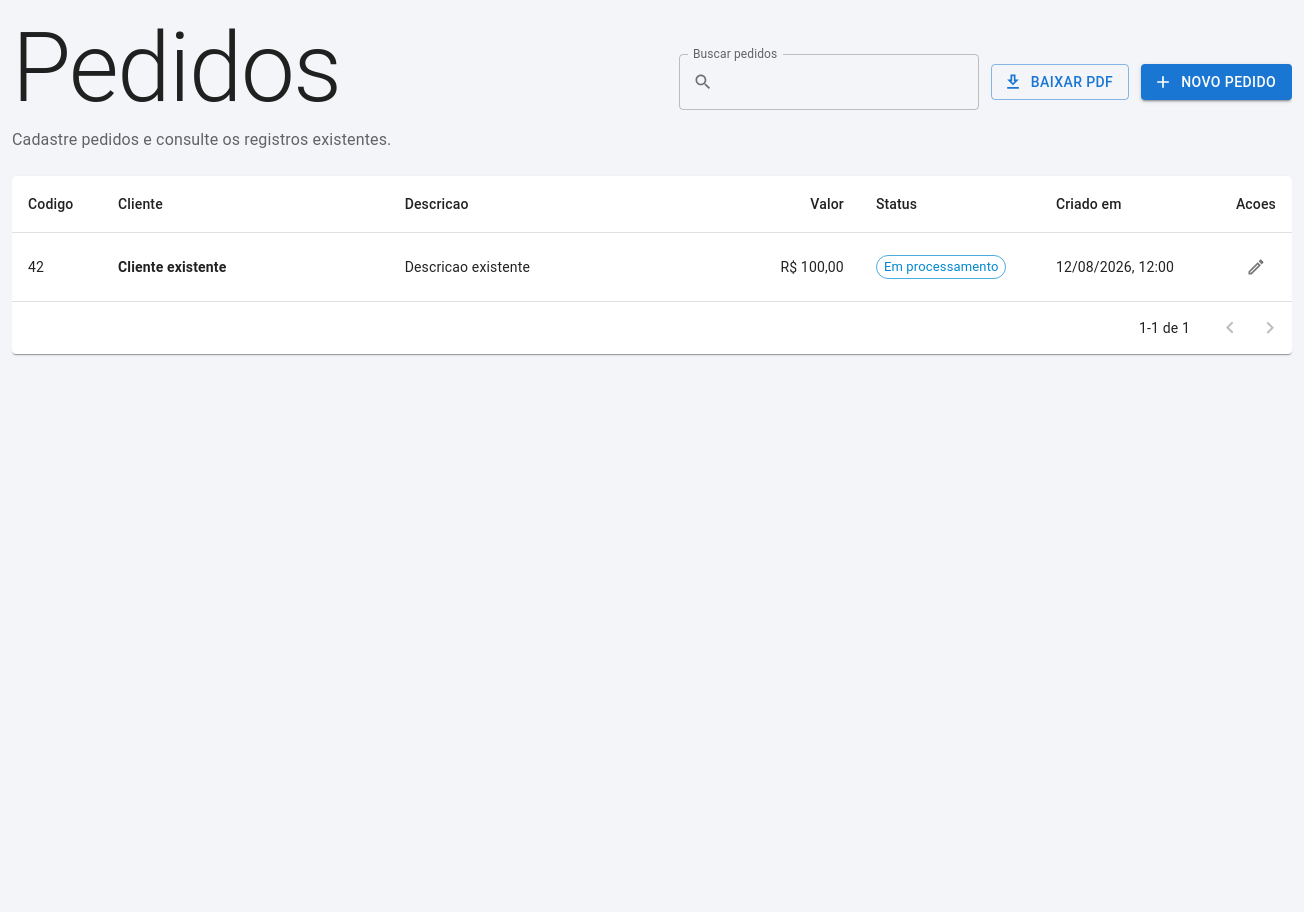
Scenario: OrdersPage › preenche e atualiza um pedido pela lista
expect the text "Cliente existente" is shown: met, box [102, 232, 389, 302]
Click the button named "Editar pedido 42".
click(1256, 267)  # box [1238, 249, 1274, 285]
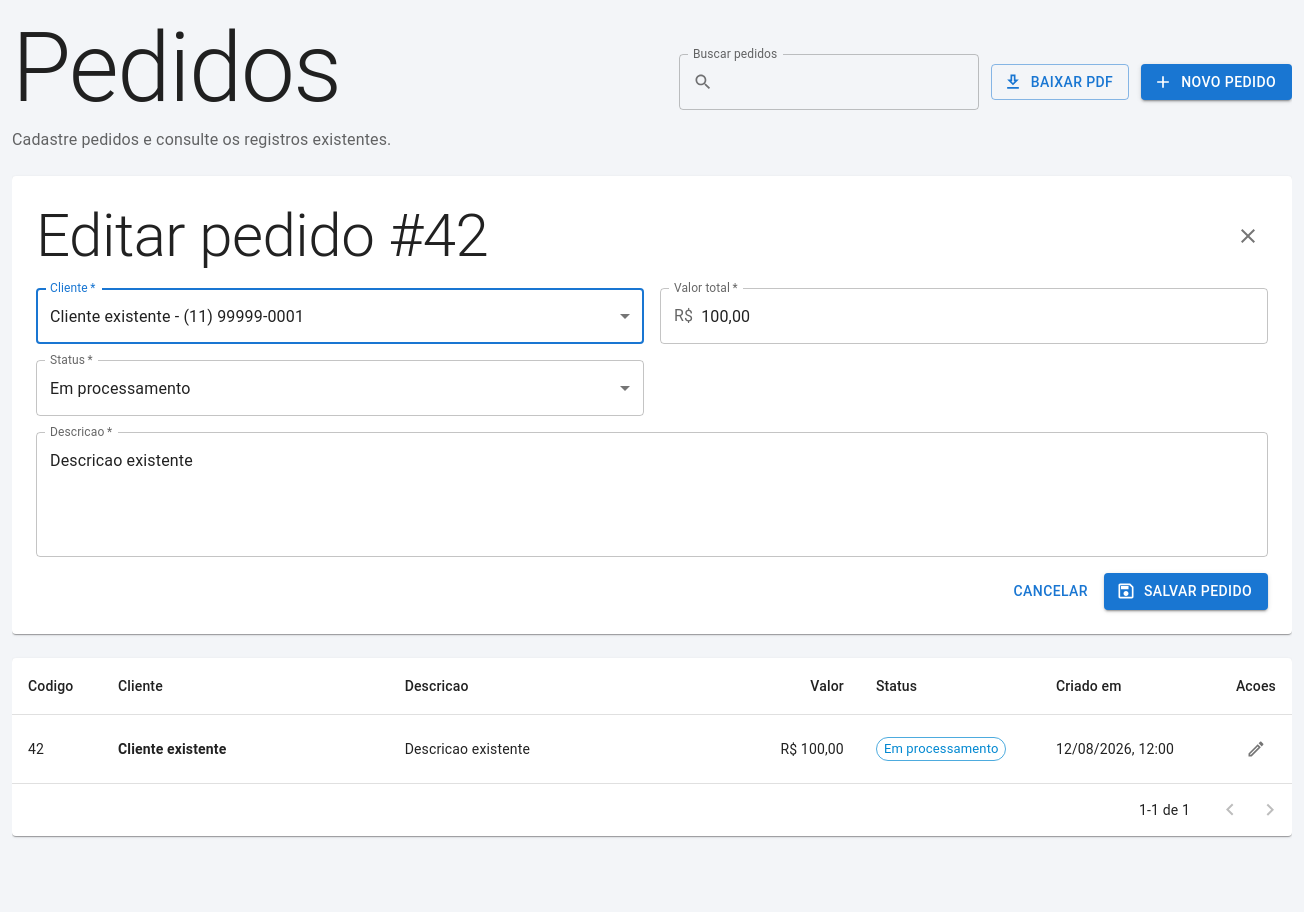
expect the text box showing "Descricao existente" is shown: met, box [50, 448, 1254, 540]
expect the field showing "100,00" is shown: met, box [701, 288, 1268, 344]
expect the heading "Editar pedido #42" is shown: met, box [36, 200, 488, 272]
Click the dropdown labelled "Cliente existente - (11) 99999-0001".
click(177, 316)  # box [50, 306, 304, 326]
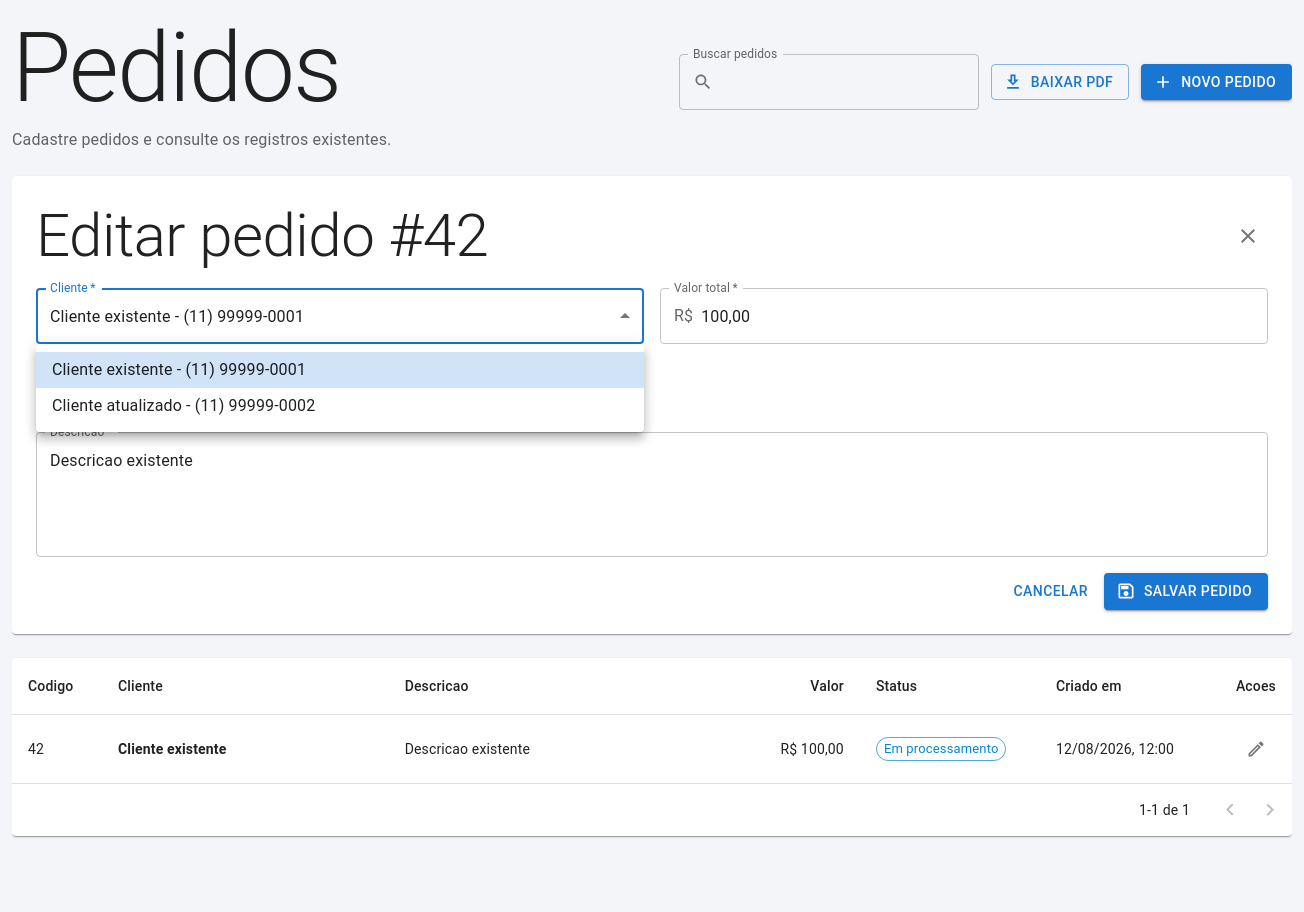
Click the option "Cliente atualizado - (11) 99999-0002".
click(184, 406)  # box [52, 396, 315, 415]
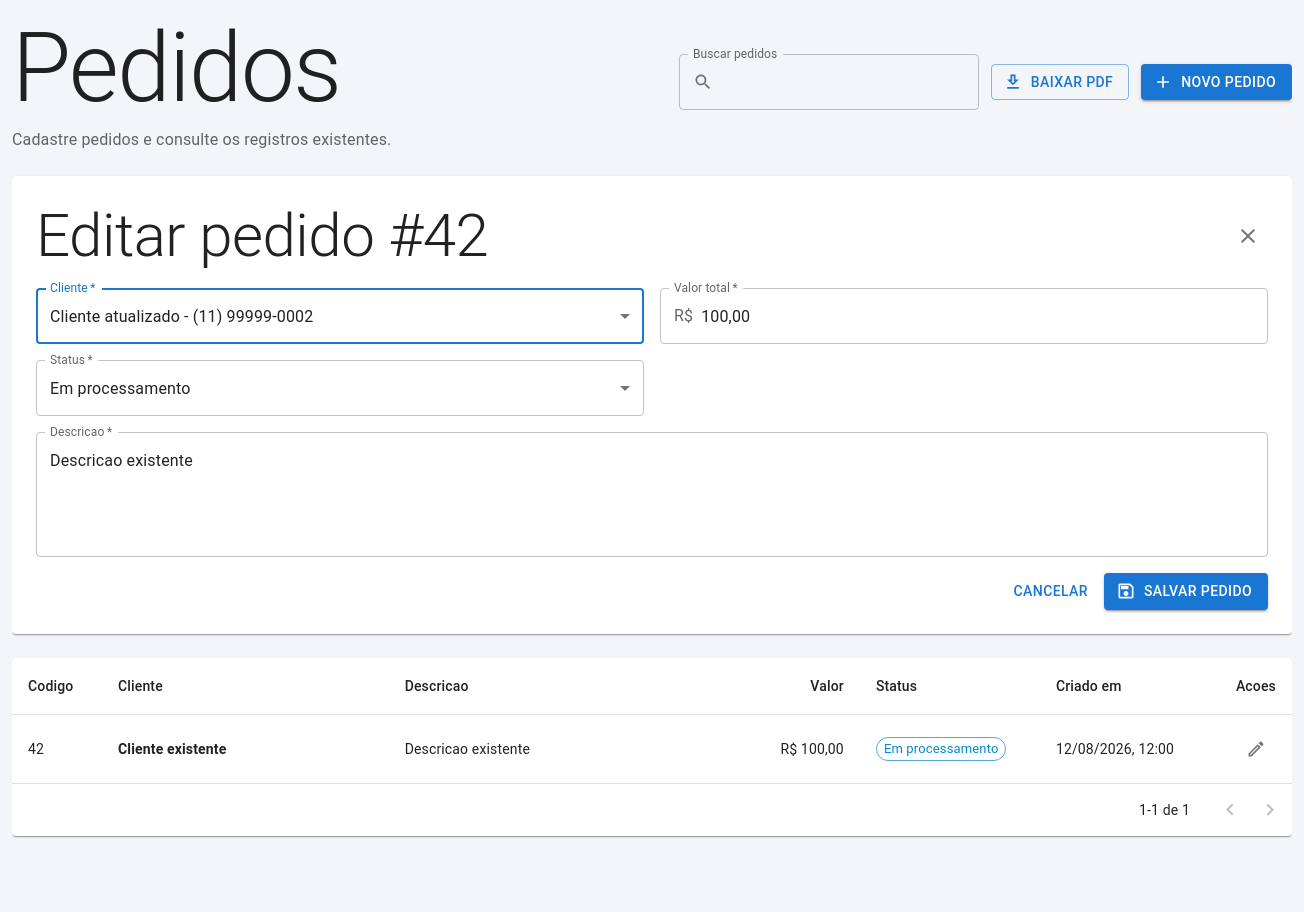
Replace the text in the field labelled "Valor total *" with "150,50" at {"x": 985, "y": 316}, box [701, 288, 1268, 344]
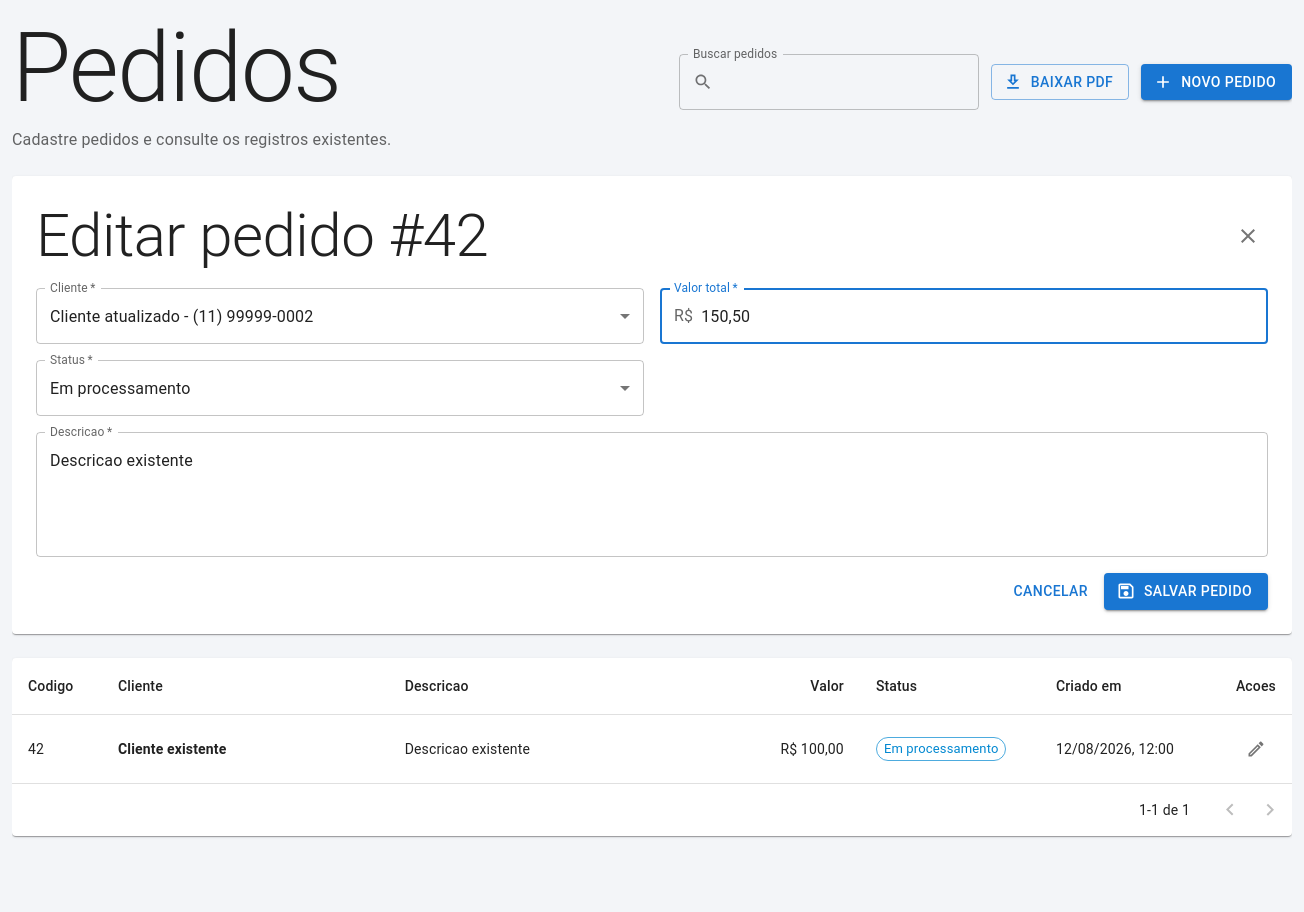
Click the button "Salvar pedido".
click(1186, 591)  # box [1104, 573, 1268, 610]
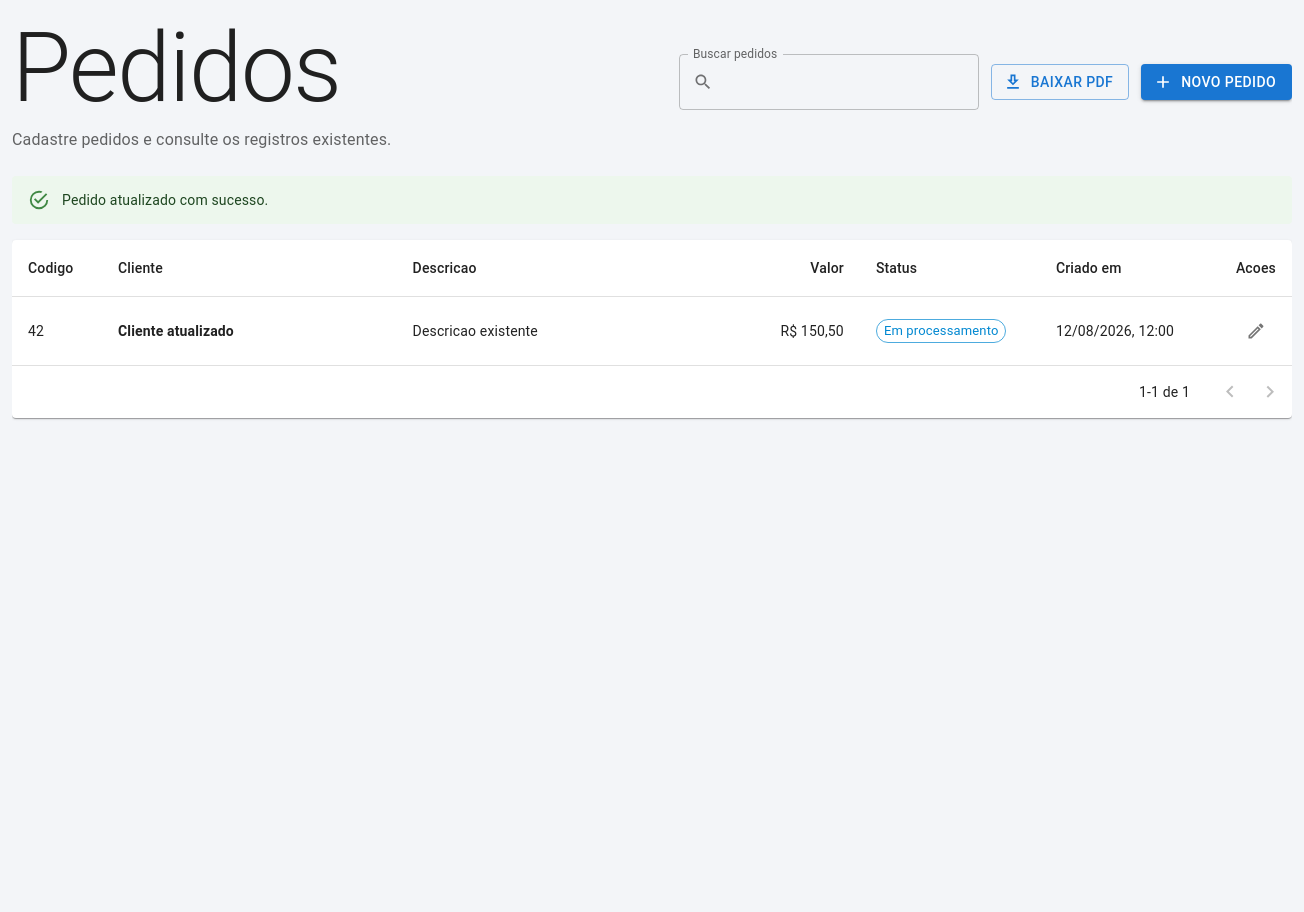
expect the text "Pedido atualizado com sucesso." is shown: met, box [62, 192, 268, 208]
expect the text "Cliente atualizado" is shown: met, box [102, 296, 397, 366]
